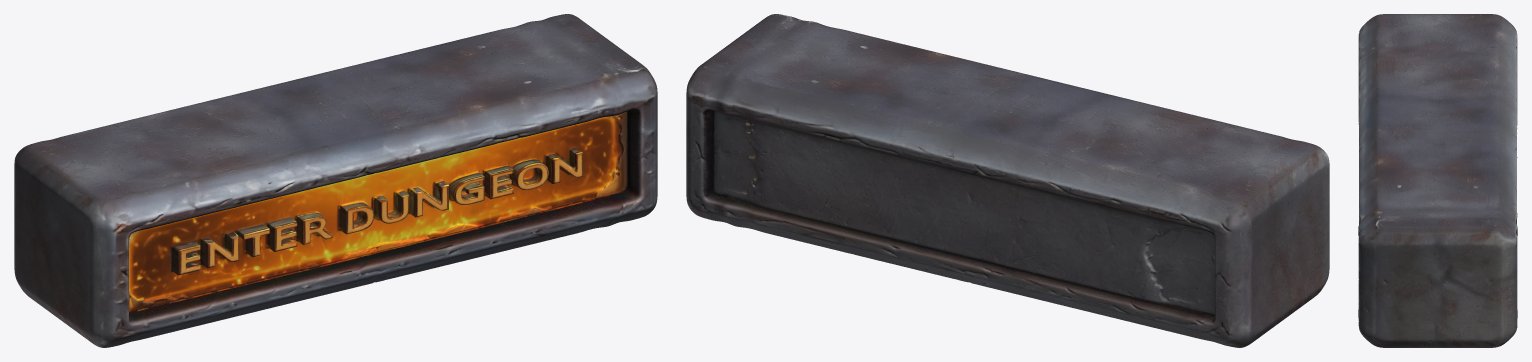
File: ENTER DUNGEON BUTTON.glb
3 views of the same model, side by side, from view 1: azimuth 30°, elevation 25°; view 2: azimuth 150°, elevation 25°; view 3: azimuth 270°, elevation 25° (orthographic). The views are drawn at different scales.
Bounding box in the file's own units: 1.9 × 0.486 × 0.5756.
1 material, 1 textured.
